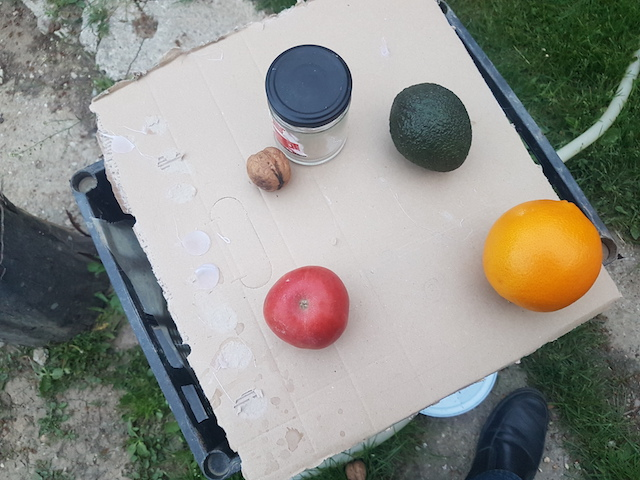apple: (260, 260, 353, 350)
avocado: (382, 76, 476, 177)
nut: (242, 143, 292, 191)
orange: (476, 184, 603, 312)
recipient: (264, 43, 357, 135)
